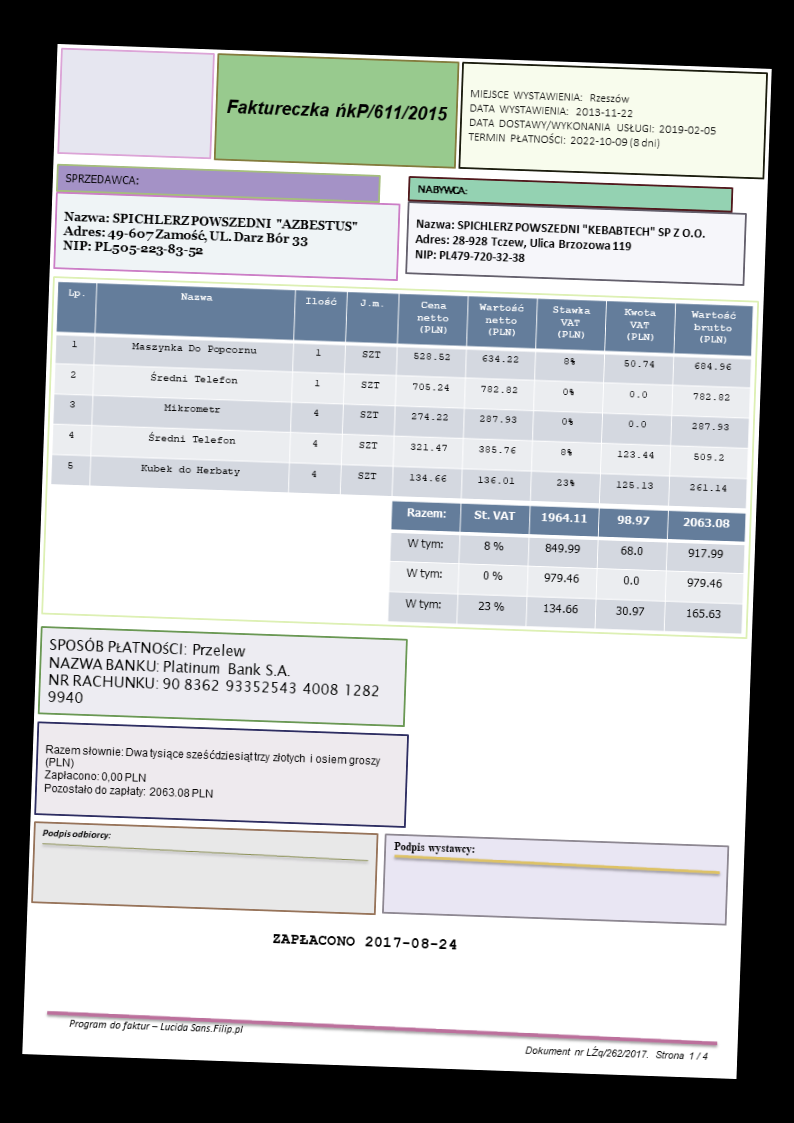Table: (48, 279, 755, 511), (384, 498, 749, 635)
TextBox: (43, 632, 387, 719), (40, 740, 388, 808), (59, 204, 360, 268), (411, 212, 711, 276), (465, 83, 724, 155), (223, 92, 451, 128), (519, 1039, 713, 1068), (269, 929, 460, 955), (64, 1013, 248, 1039), (389, 835, 478, 862), (60, 167, 141, 190), (35, 822, 112, 846), (413, 179, 470, 200)
